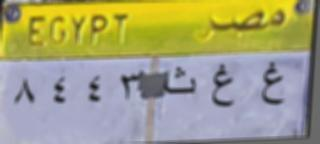3: (116, 69, 145, 103)
4: (83, 71, 103, 108), (50, 73, 70, 110)
8: (9, 76, 36, 113)
ghayn: (255, 59, 289, 115), (207, 58, 239, 114)
thaa: (163, 65, 202, 103)
